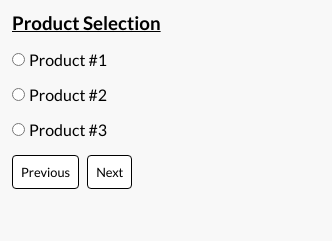
step three validation › product field validation appears on submit if no value selected
The image size is (332, 241).
Click the button "Next" at [110, 172], box x1=87 y1=155 x2=132 y2=189
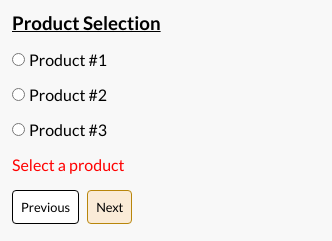
Now the text "Select a product" is shown, box x1=12 y1=155 x2=124 y2=174
